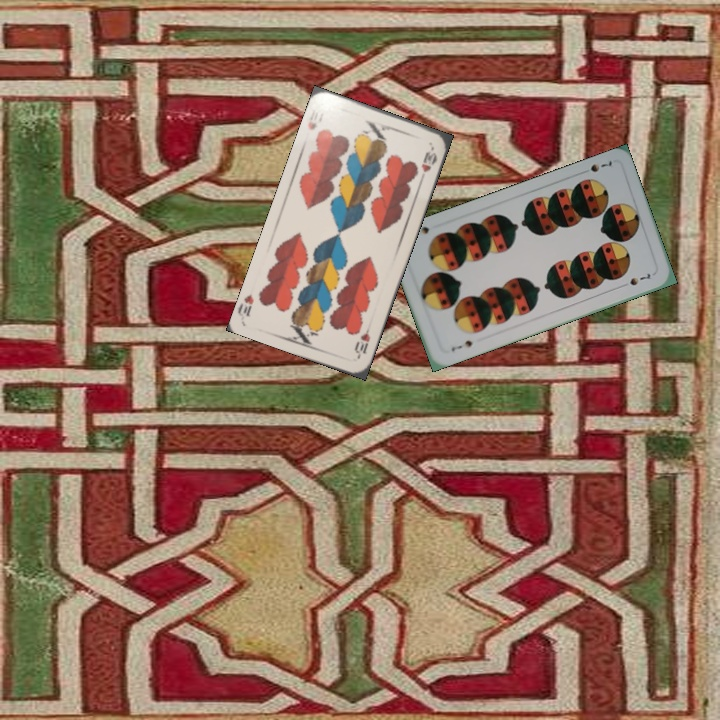H10: (350, 321, 373, 361), (304, 108, 326, 132)
S7: (577, 156, 616, 177), (447, 336, 475, 354)
